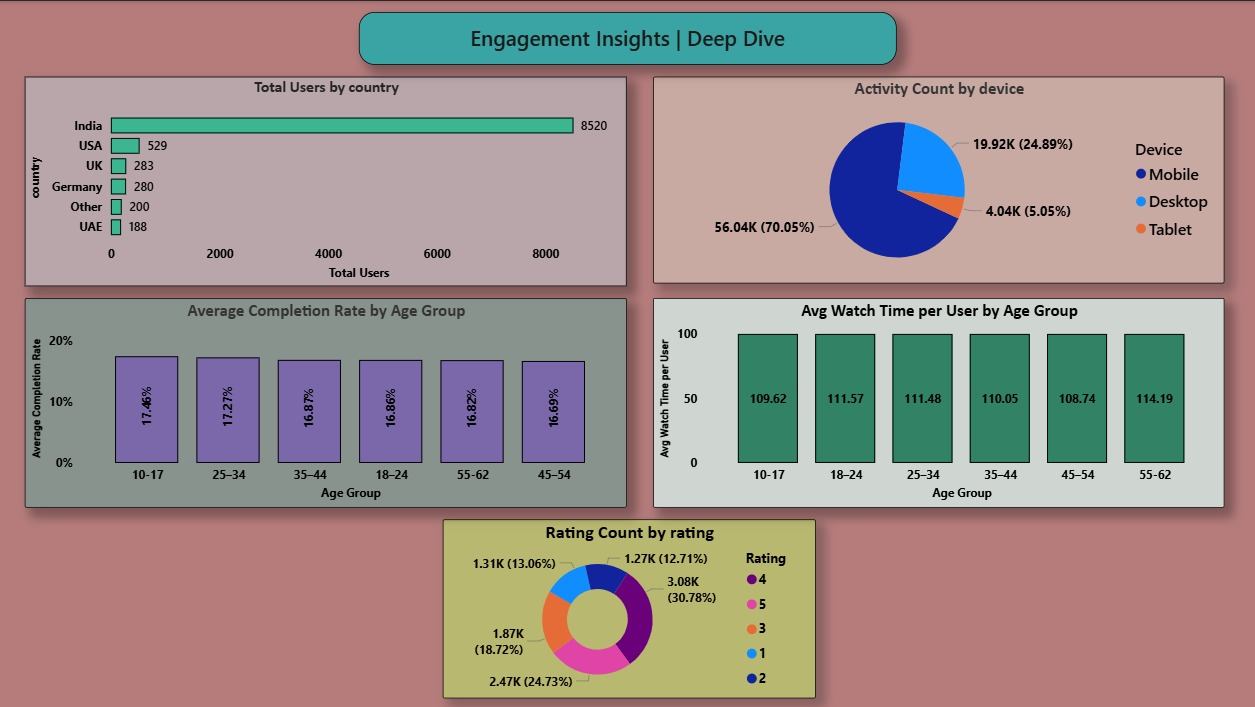

The dashboard page shown, as its layout file describes it:
{"tool":"powerbi","page":{"name":"Engagement Insights","canvas":[1280,720],"ordinal":1},"visuals":[{"type":"donutChart","title":"Rating Count by rating","fields":{"Category":["oc_ratings.rating"],"Y":["Calendar.Rating_Count"]},"box":[451.5,528.4,380.3,182.3],"z":0},{"type":"pieChart","fields":{"Category":["oc_activity.device"],"Y":["Calendar.Activity Count"]},"box":[666.5,76.9,582.5,210.8],"z":1000},{"type":"clusteredBarChart","fields":{"Category":["oc_users.country"],"Y":["Calendar.Users_Count"]},"box":[25.6,76.9,613.8,213.6],"z":2000},{"type":"clusteredColumnChart","fields":{"Category":["oc_users.Age Group"],"Y":["Calendar.Average Completion Rate"]},"box":[25.6,303.4,613.8,213.6],"z":3000},{"type":"clusteredColumnChart","fields":{"Category":["oc_users.Age Group"],"Y":["Calendar.Avg Watch Time per User"]},"box":[666.5,303.4,582.5,213.6],"z":4000},{"type":"textbox","box":[366,11.4,548.3,54.1],"z":4001}]}

Visuals, with their boxes in screenshot pixels (x1, y1, x2, y2), scaled from the page's 1280x720 canvas onto the 1255x707 screenshot:
"Rating Count by rating" donutChart: (x1=443, y1=519, x2=816, y2=698)
pieChart - oc_activity.device x Calendar.Activity Count: (x1=653, y1=76, x2=1225, y2=283)
clusteredBarChart - oc_users.country x Calendar.Users_Count: (x1=25, y1=76, x2=627, y2=285)
clusteredColumnChart - oc_users.Age Group x Calendar.Average Completion Rate: (x1=25, y1=298, x2=627, y2=508)
clusteredColumnChart - oc_users.Age Group x Calendar.Avg Watch Time per User: (x1=653, y1=298, x2=1225, y2=508)
textbox: (x1=359, y1=11, x2=896, y2=64)
